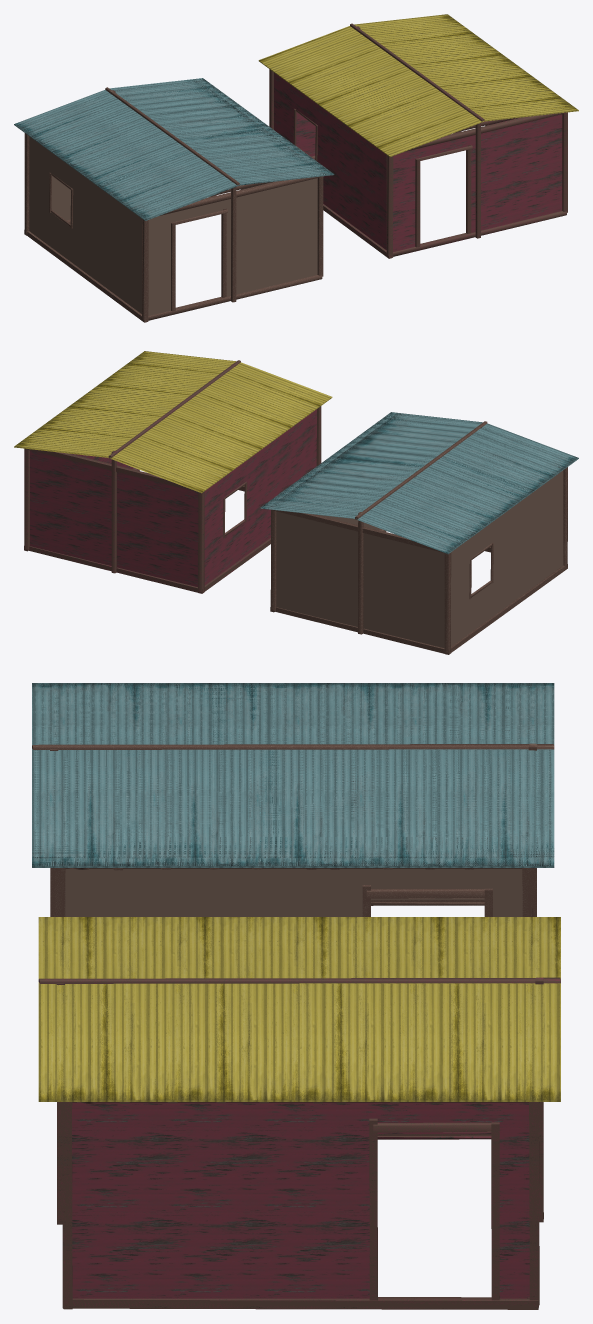
The model's file is shanty.fbx.
3 views of the same model, one above another, from view 1: azimuth 30°, elevation 25°; view 2: azimuth 150°, elevation 25°; view 3: azimuth 270°, elevation 25° (orthographic). The views are drawn at different scales.
Visible parts, largest first — view 1: Group1, Group2; view 2: Group1, Group2; view 3: Group2, Group1.
Part boxes in pixels (<box>): Group1: <box>14,78,334,322</box>; Group2: <box>258,14,578,258</box>; Group1: <box>260,412,578,654</box>; Group2: <box>14,351,332,593</box>; Group2: <box>38,917,560,1309</box>; Group1: <box>32,683,554,916</box>.
Size of the model in its own units: 426 by 117 by 226.
